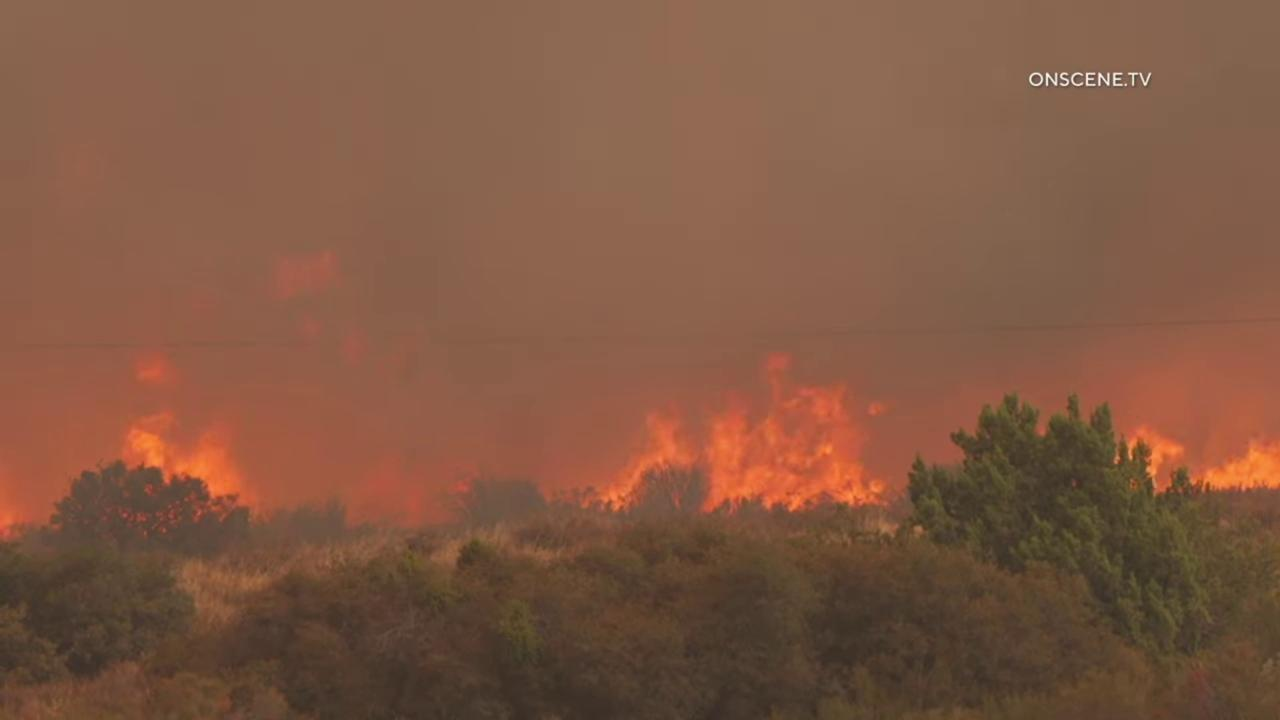fire: (570, 344, 900, 523), (118, 404, 274, 539), (1108, 413, 1280, 501), (0, 488, 35, 548)
smoke: (0, 0, 1280, 556)
